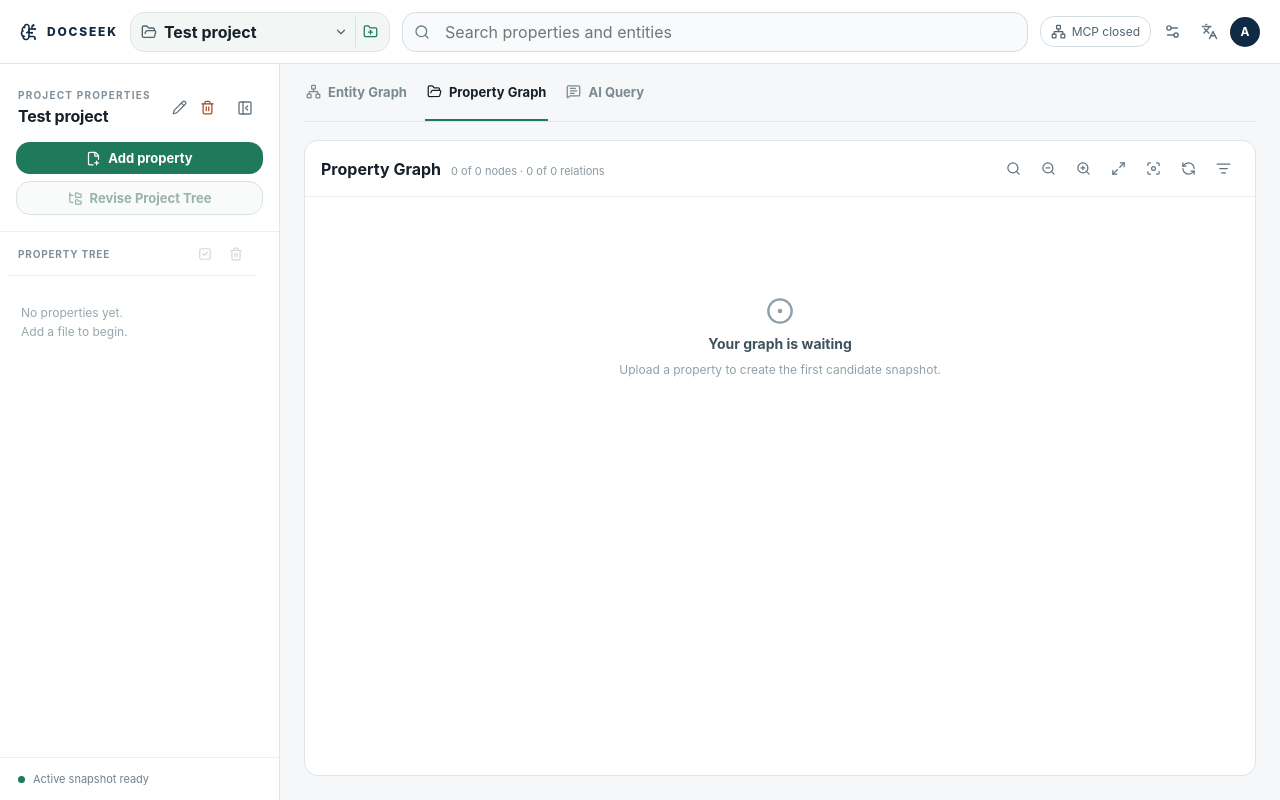
Test case: ProjectShell graph-aware search › labels direct and relation-expanded results
Type "Atlas" into the field with placeholder "Search properties and entities" at (729, 32), box [443, 20, 1015, 42]
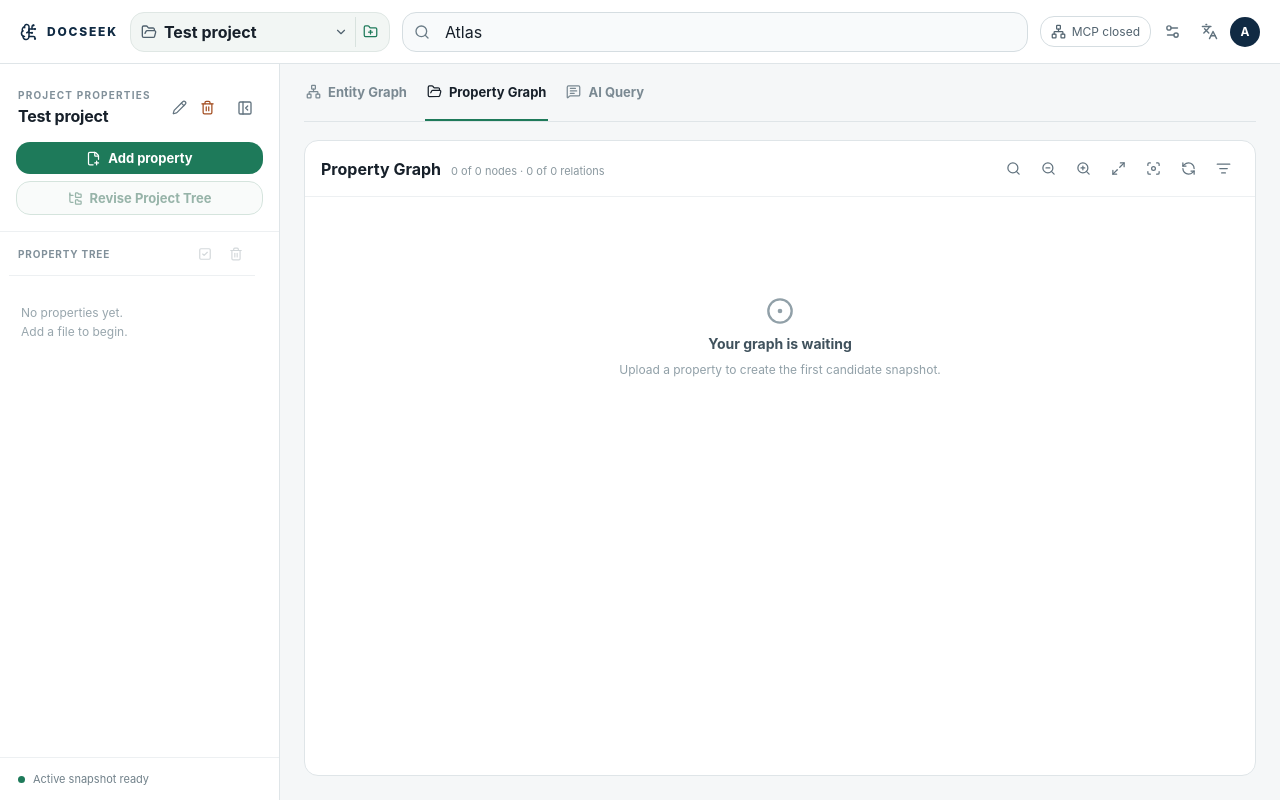
Click the button named "Search project" at (422, 32), box [410, 20, 434, 44]
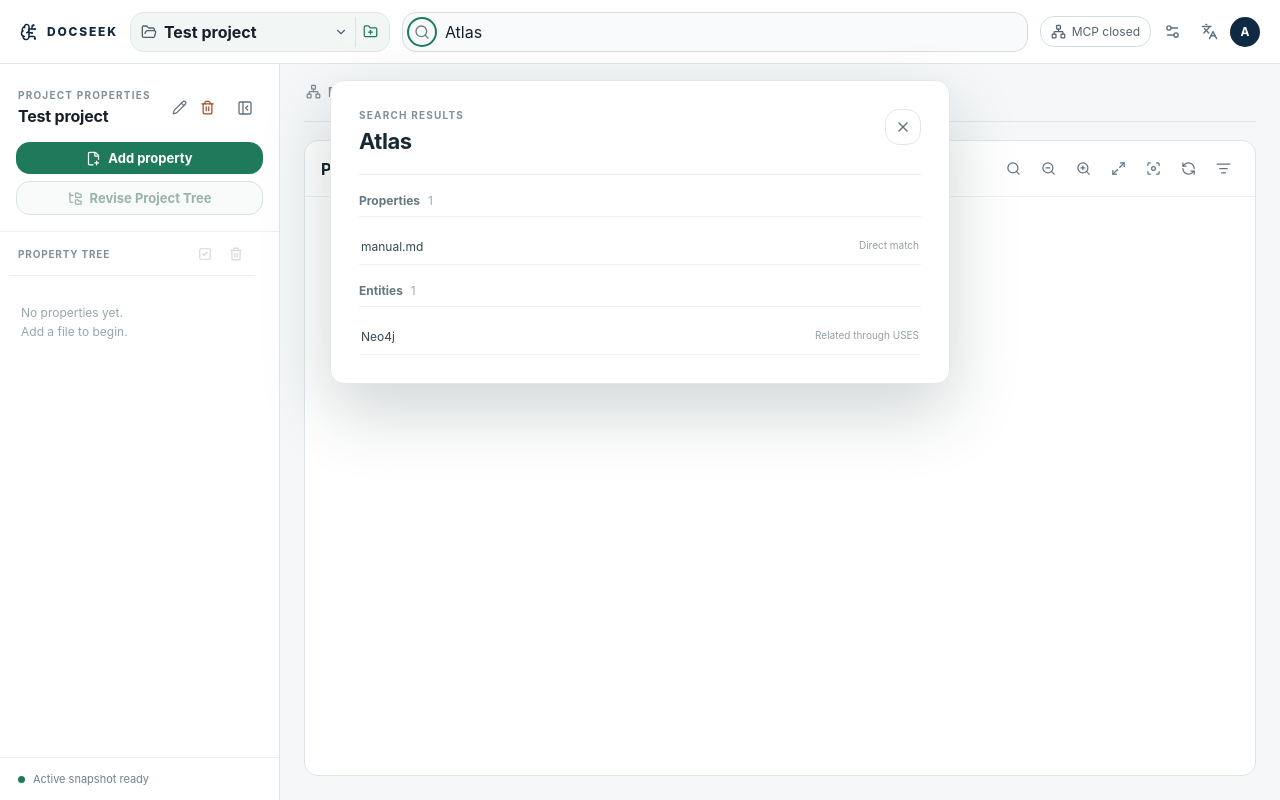
Check: the text "Direct match" is shown, box [859, 239, 919, 251]
Check: the text "Related through USES" is shown, box [815, 329, 919, 341]
